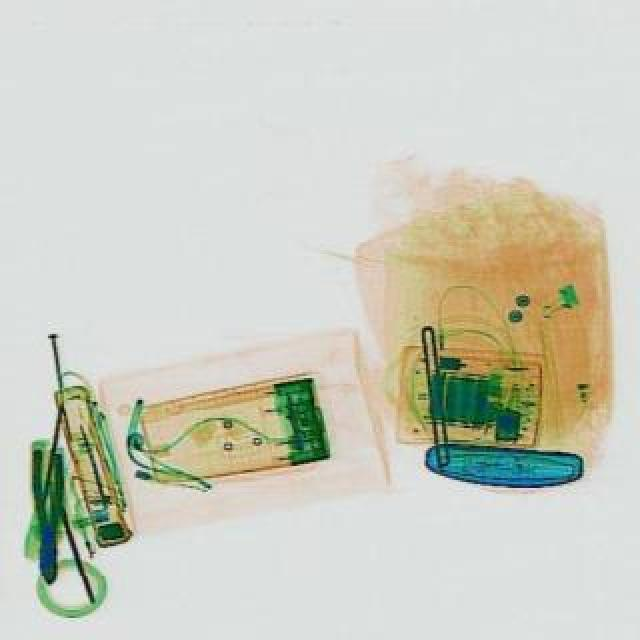wrench: (28, 448, 64, 582)
